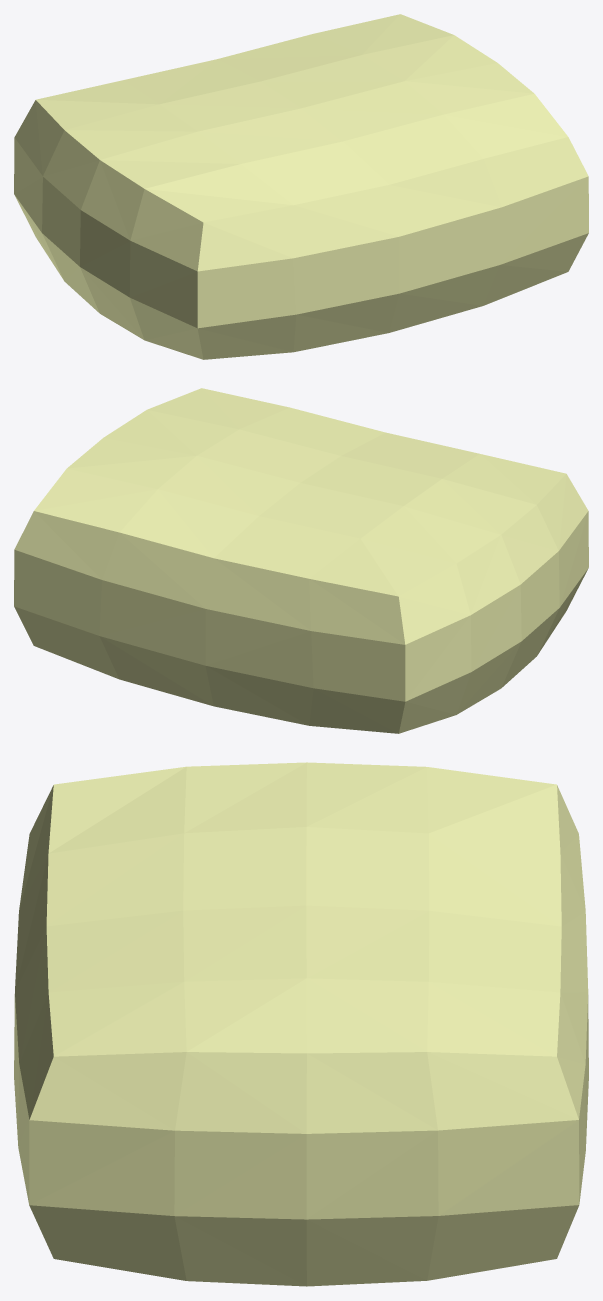
File: soap.gltf
3 renders of one model, top to bottom at view 1: azimuth 30°, elevation 25°; view 2: azimuth 150°, elevation 25°; view 3: azimuth 270°, elevation 25°, orthographic. The views are drawn at different scales.
Visible parts, largest first — view 1: node-0; view 2: node-0; view 3: node-0.
Part boxes in pixels (x1,y1,x2,y2): node-0: (14, 14, 588, 359); node-0: (14, 388, 588, 733); node-0: (14, 762, 588, 1286).
Size of the model in its own units: 0.8342 by 0.3198 by 0.6348.
